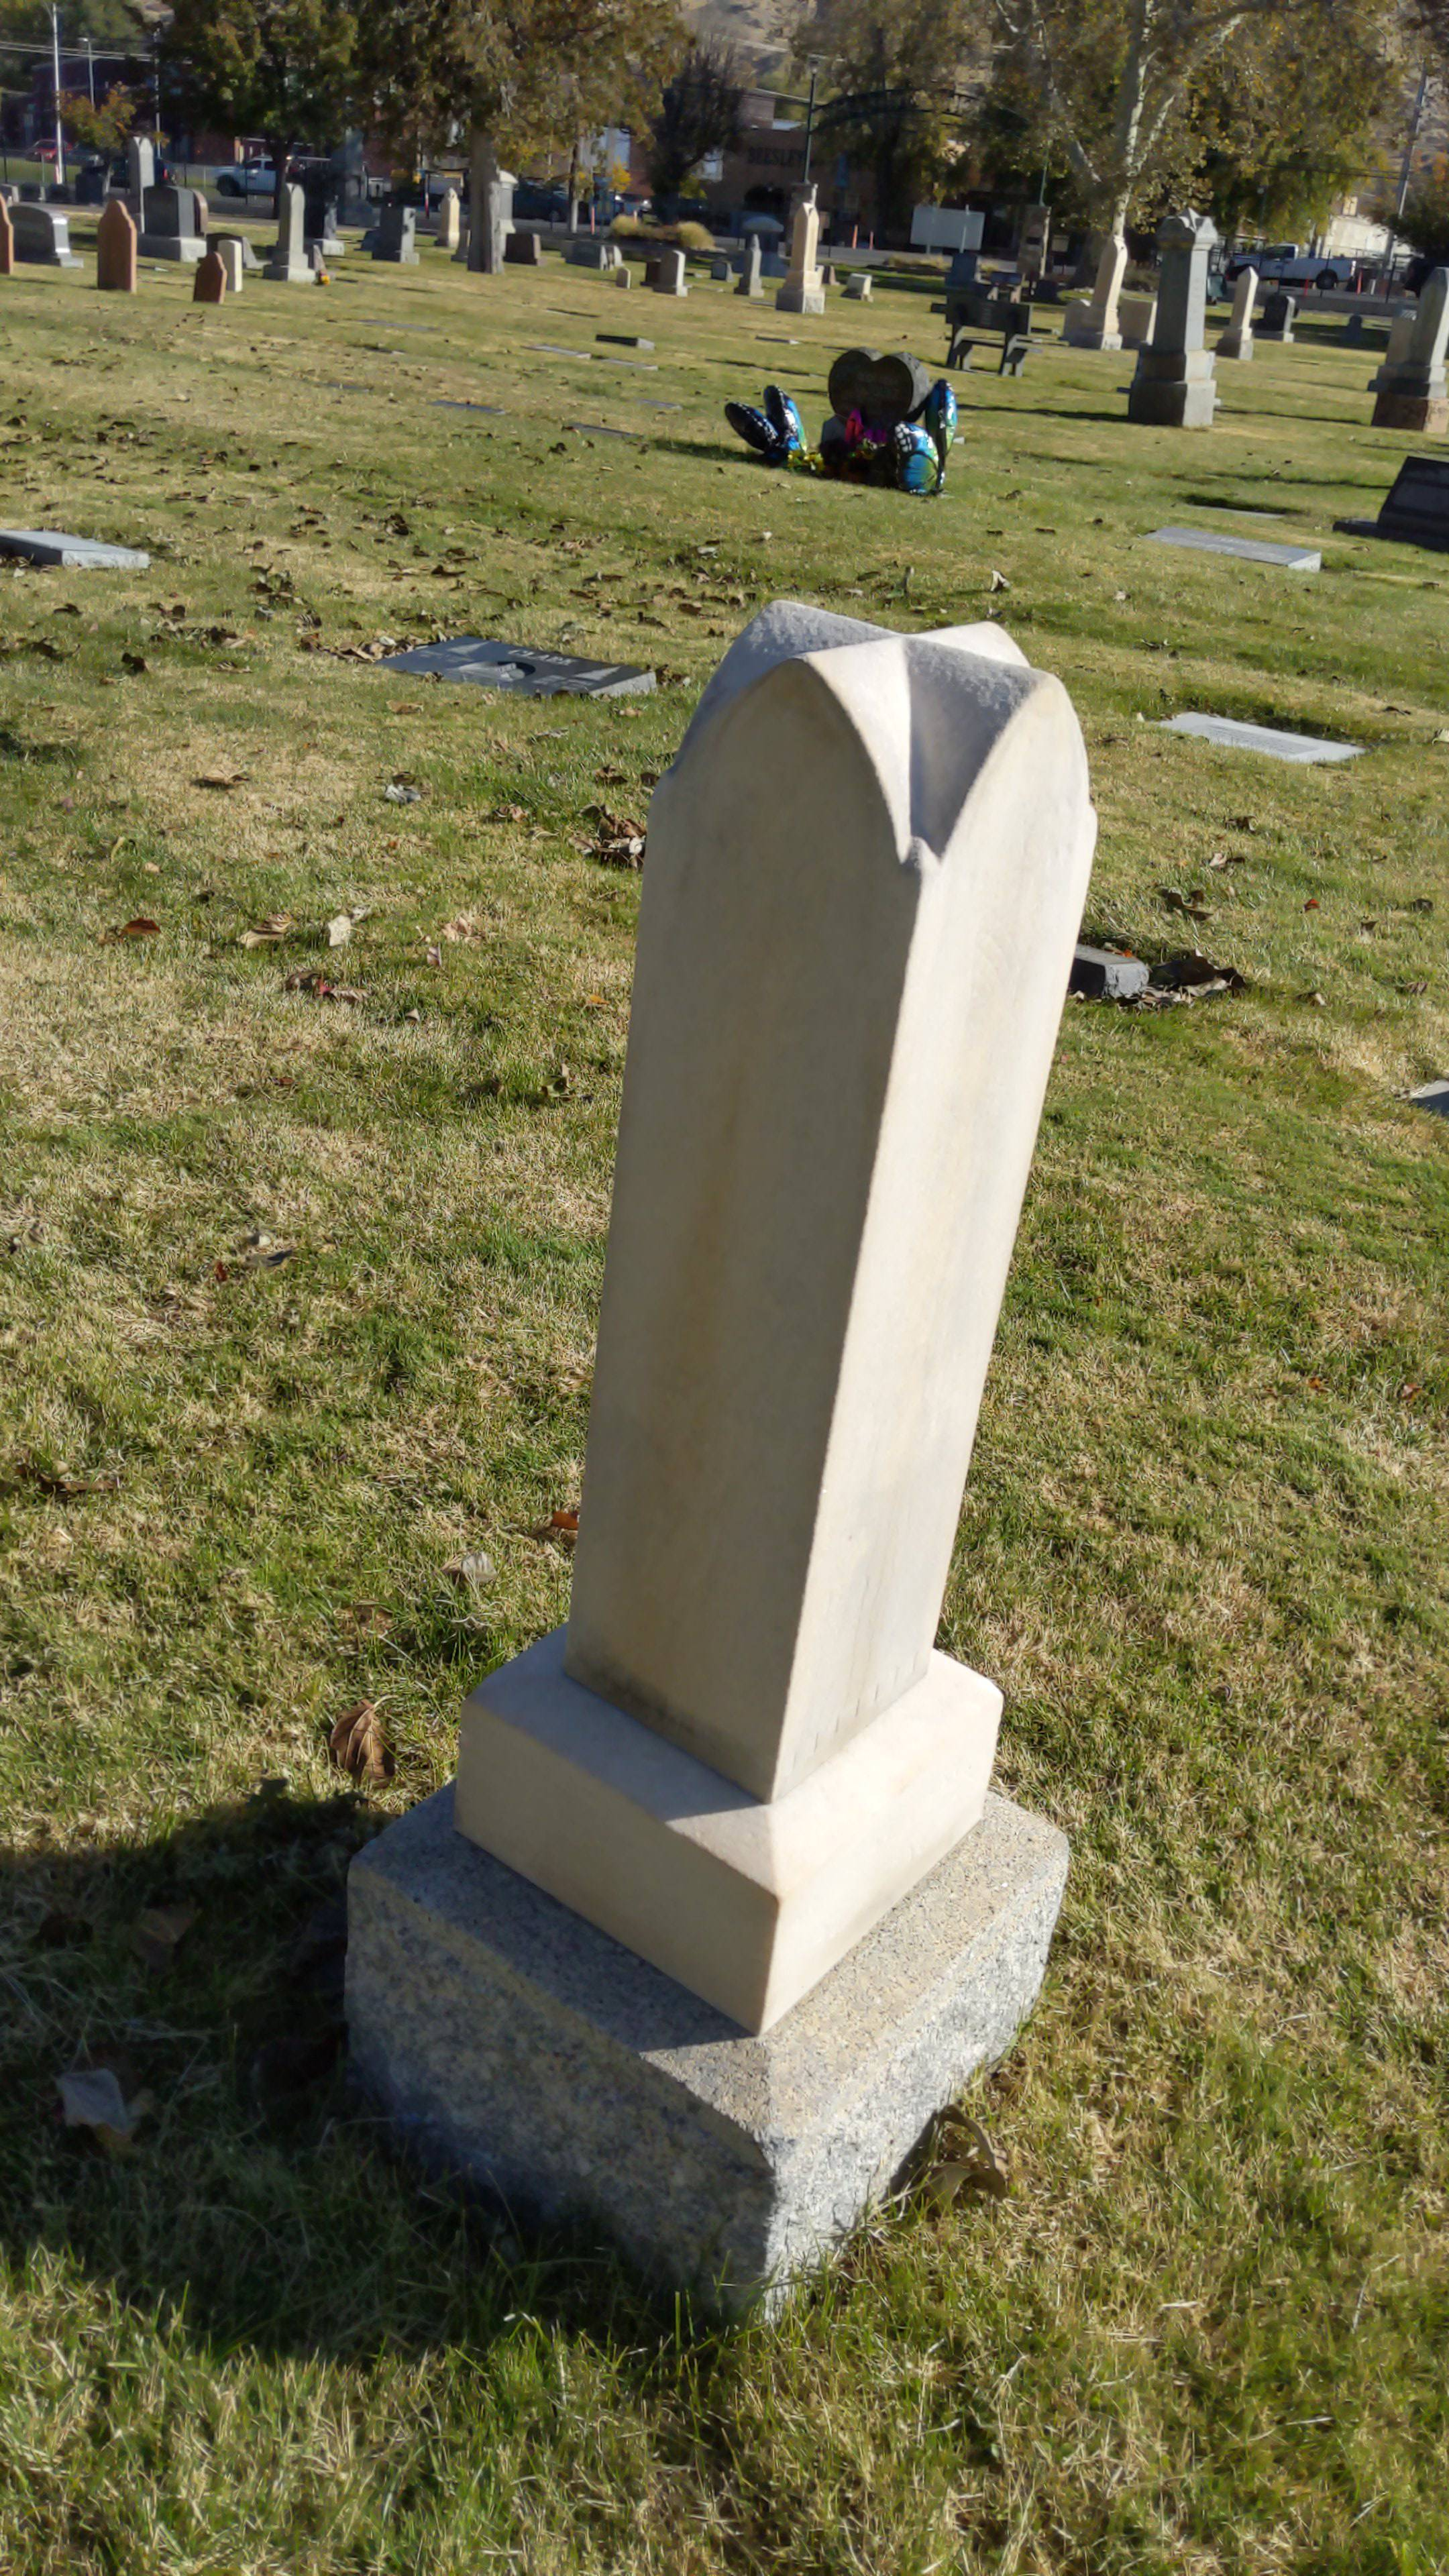obelisk: (460, 586, 1097, 2035)
